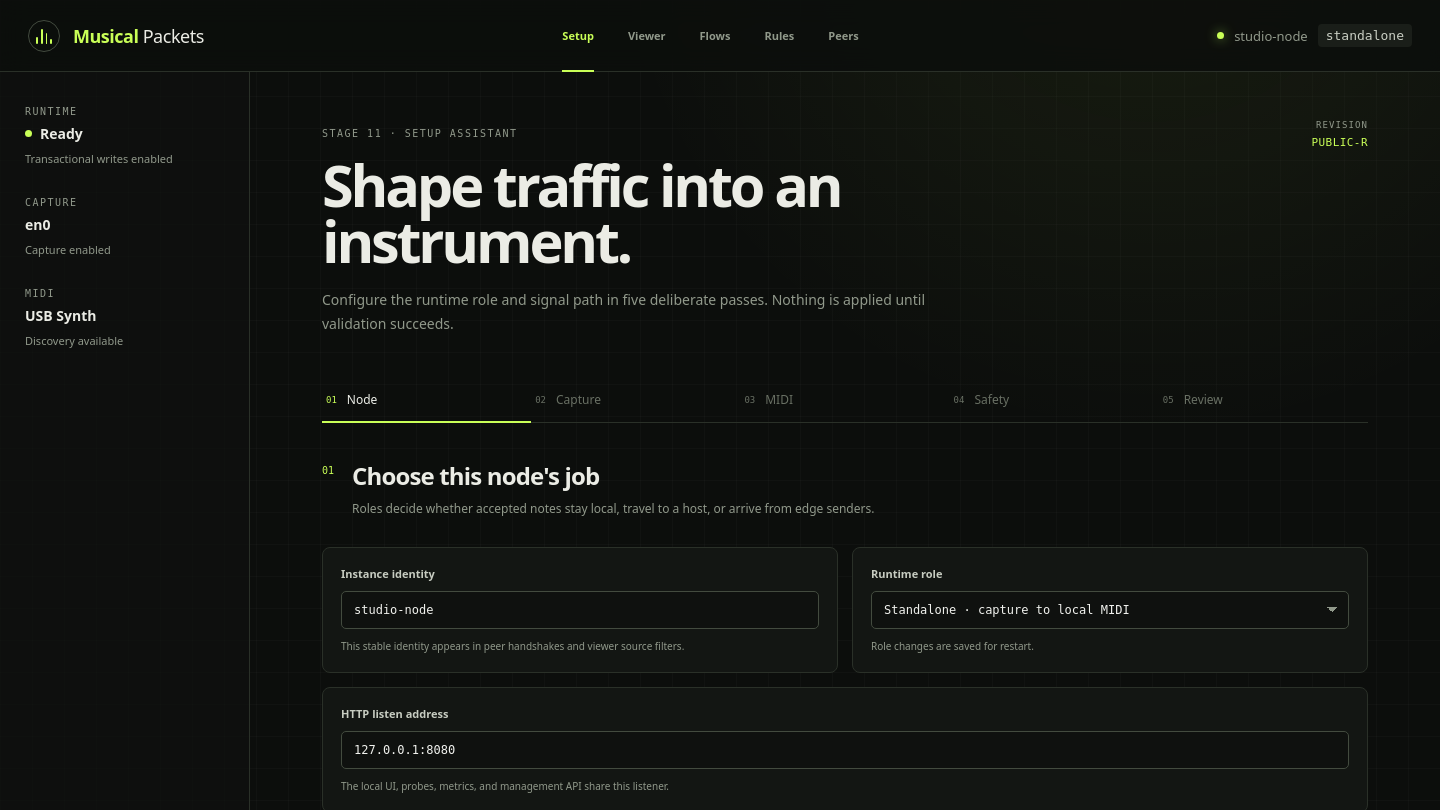
Test: setup assistant › navigates to the live musical viewer
Step 1. Click the link "Viewer" → (647, 36), box [628,28,666,43]
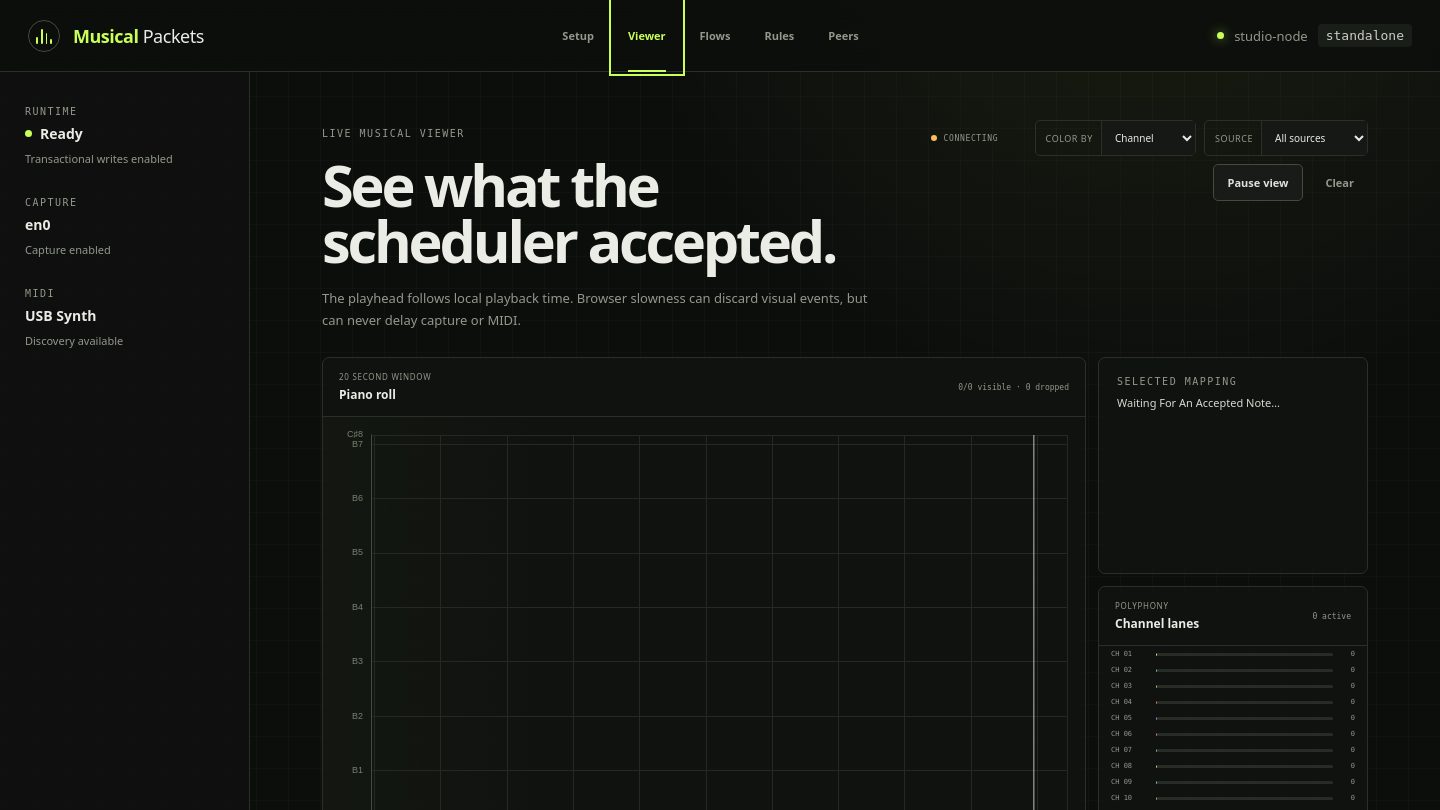
Result: the heading "See what the scheduler accepted." is shown at [322,157,886,270]
